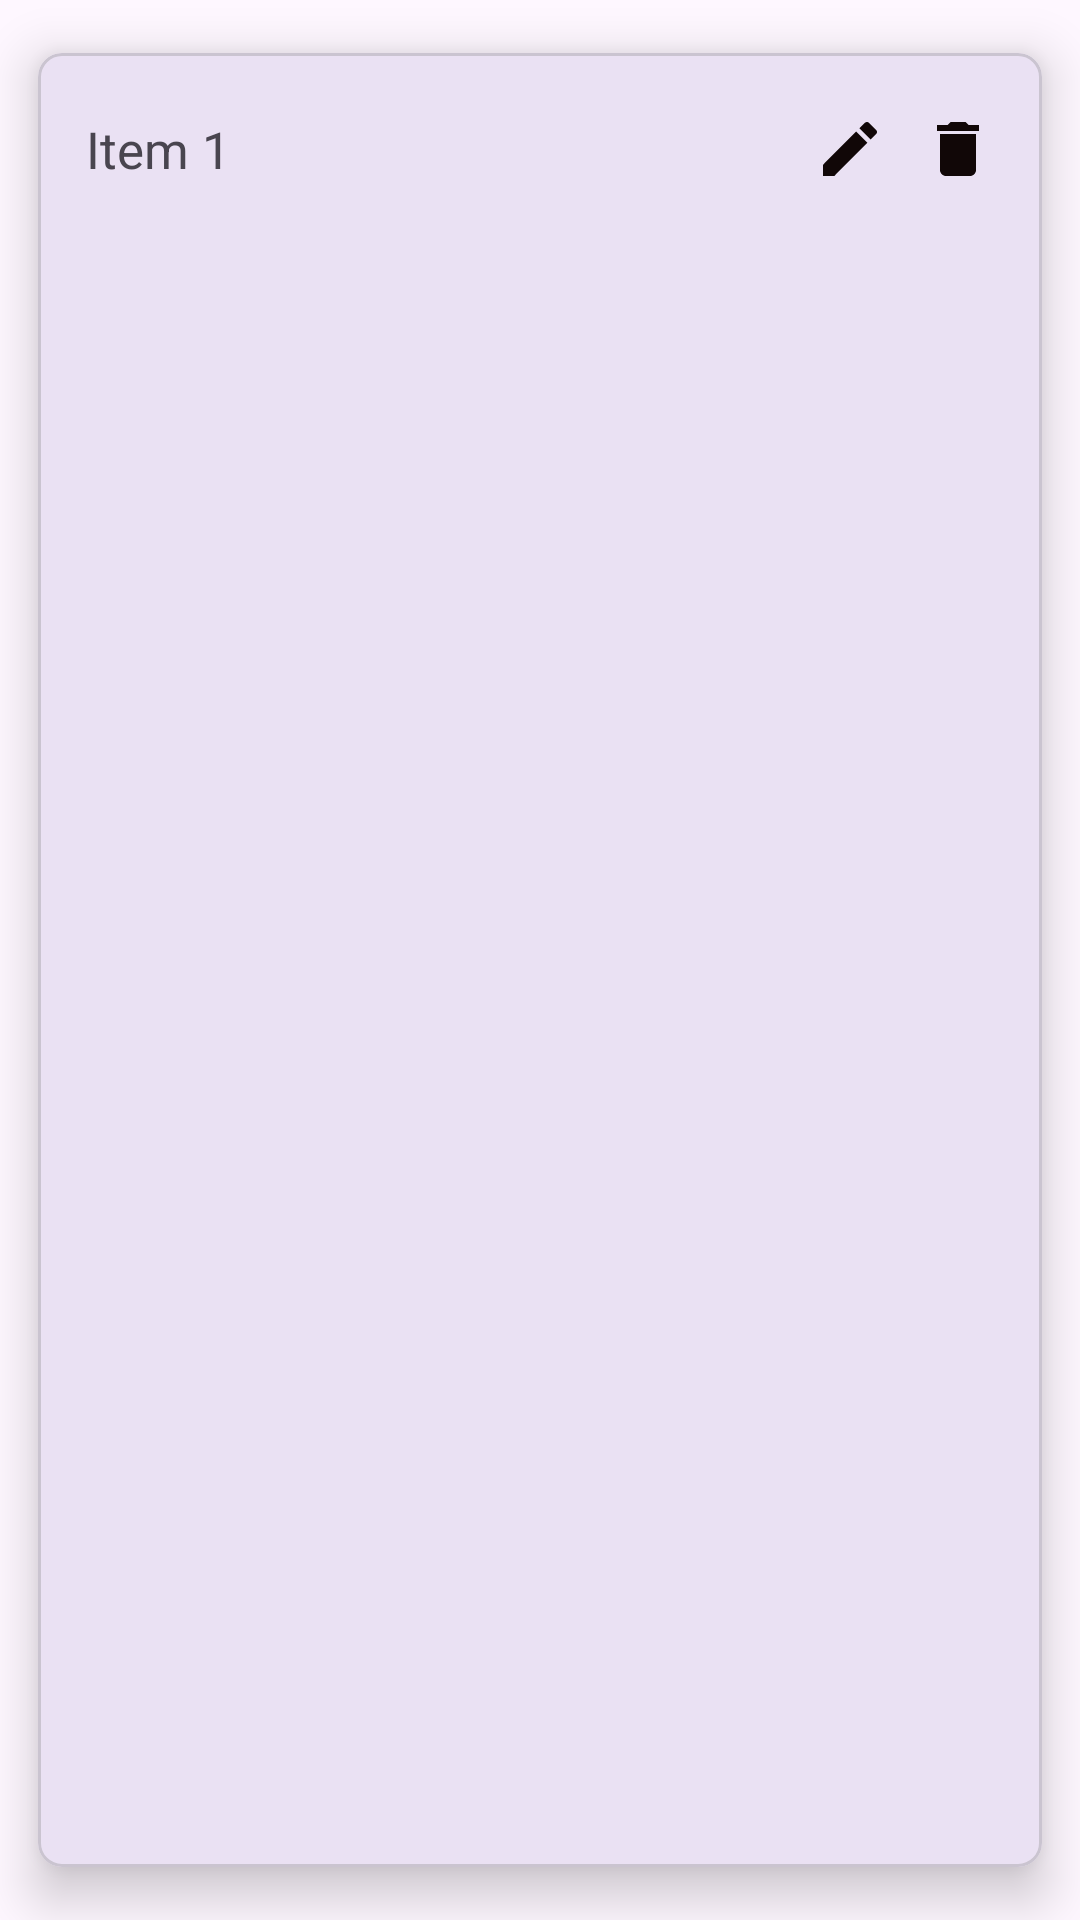

Icon bounding boxes for this 1080x1920 phone screenshot, format (x1, y1, x2, y2):
delete: (937, 122, 979, 176)
editpen: (823, 122, 877, 176)
